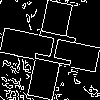H: (25, 25, 77, 70)
